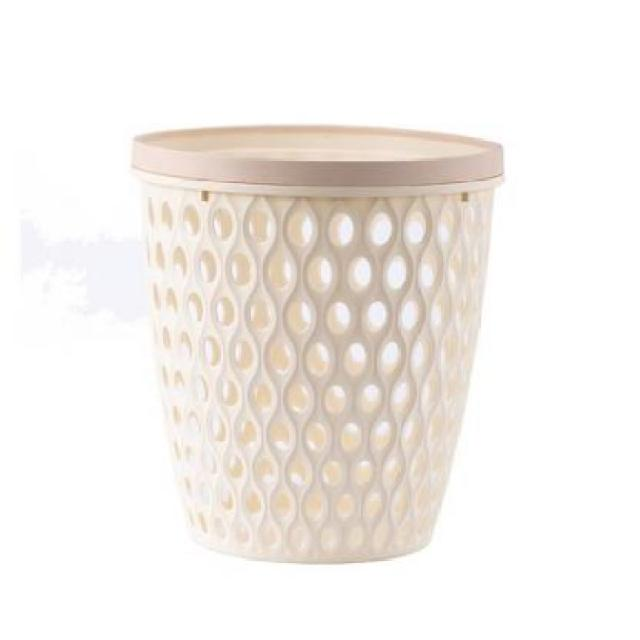dustbin: (128, 119, 509, 568)
